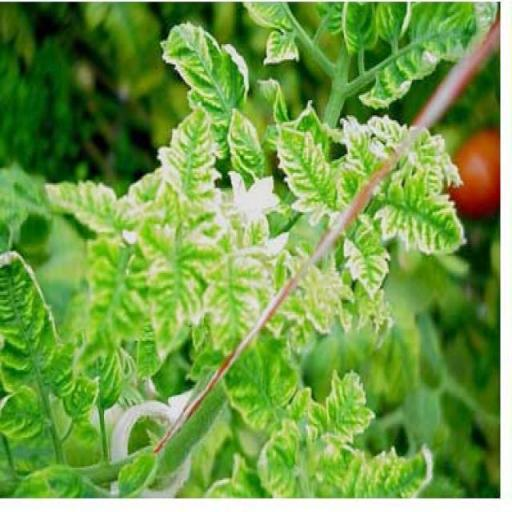Yellow Leaf Curl Virus: (342, 0, 500, 116), (135, 213, 225, 367), (0, 242, 63, 396), (158, 20, 250, 122), (379, 162, 469, 260), (314, 438, 438, 498), (274, 125, 346, 228), (154, 102, 224, 204), (40, 166, 130, 240), (306, 362, 378, 444), (252, 420, 302, 498), (345, 221, 392, 303)
